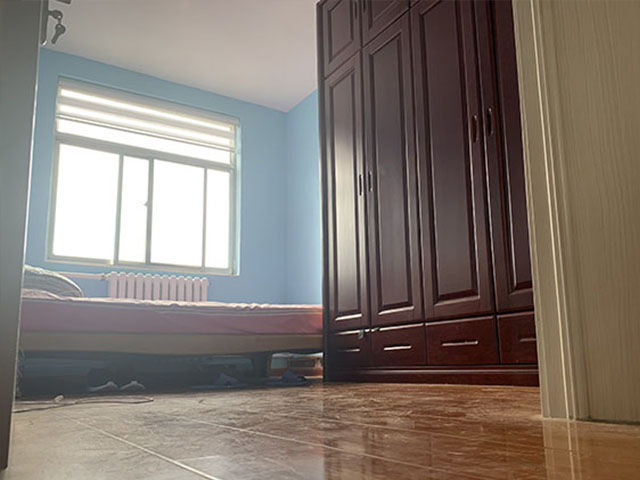bed: (16, 263, 322, 378)
cabinet: (328, 1, 539, 388)
slippers: (248, 371, 311, 390), (190, 370, 246, 391)
wire: (12, 393, 155, 414)
